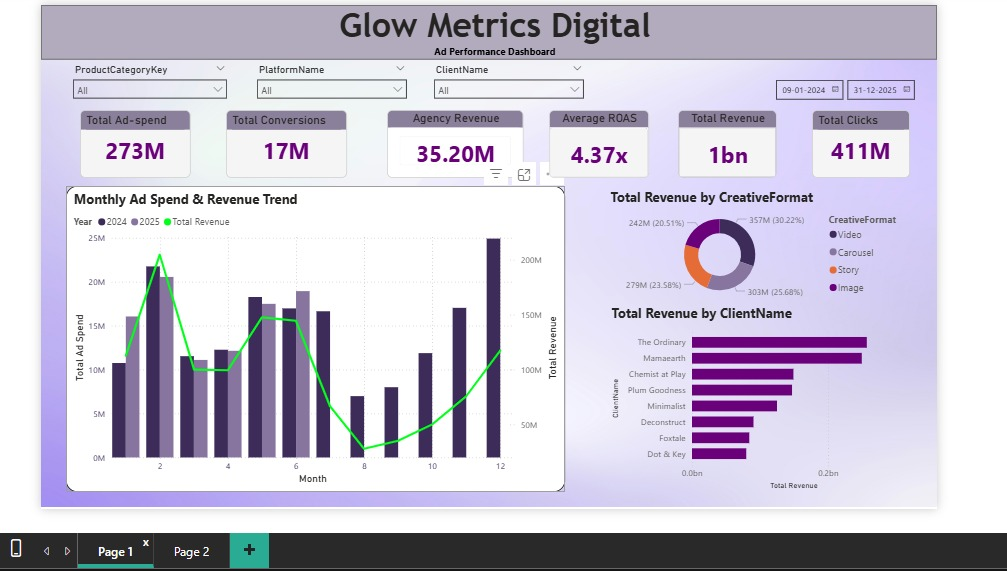

The page's visual inventory and layout, read from the dashboard file:
{"tool":"powerbi","page":{"name":"Page 1","canvas":[1280,720],"ordinal":0},"visuals":[{"type":"card","title":"Total Ad-spend","fields":{"Values":["FACT_Campaigns.Total Ad Spend"]},"box":[55.7,149.8,158.4,97],"z":0},{"type":"cardVisual","title":"Total Revenue","fields":{"Data":["FACT_Campaigns.Total Revenue"]},"box":[910.4,149.8,141.3,97],"z":1000},{"type":"card","title":"Total Clicks","fields":{"Values":["FACT_Campaigns.Total Clicks"]},"box":[1101.6,149.8,139.8,97],"z":2000},{"type":"card","title":"Total Conversions","fields":{"Values":["FACT_Campaigns.Total Conversions"]},"box":[264,149.8,172.7,97],"z":3000},{"type":"cardVisual","title":"Agency Revenue","fields":{"Data":["FACT_Campaigns.Agency Total Revenue"]},"box":[493.7,149.8,195.5,97],"z":4000},{"type":"lineClusteredColumnComboChart","title":"Monthly Ad Spend & Revenue Trend","fields":{"Category":["DIM_Date.Month"],"Series":["DIM_Date.Year"],"Y":["FACT_Campaigns.Total Ad Spend"],"Y2":["FACT_Campaigns.Total Revenue"]},"box":[35.7,258.6,712.9,437.1],"z":5000},{"type":"cardVisual","title":"Average ROAS","fields":{"Data":["FACT_Campaigns.Average ROAS"]},"box":[726.3,149.8,142.7,97],"z":6000},{"type":"textbox","title":"Glow Metrics Digital","box":[0,0,1280,78],"z":7000},{"type":"donutChart","fields":{"Category":["DIM_Creative.CreativeFormat"],"Y":["FACT_Campaigns.Total Revenue"]},"box":[808.9,261,433.8,165.5],"z":7000,"group":"g1"},{"type":"slicer","fields":{"Values":["DIM_Date.Date"]},"box":[1037.8,96.7,240,38.9],"z":8000},{"type":"slicer","fields":{"Values":["DIM_Clients.ClientName"]},"box":[552,78,234,78],"z":9000},{"type":"barChart","fields":{"Category":["DIM_Clients.ClientName"],"Y":["FACT_Campaigns.Total Revenue"]},"box":[810.7,426.9,431.7,269.2],"z":9000,"group":"g1"},{"type":"slicer","fields":{"Values":["DIM_Platform.PlatformName"]},"box":[298,78,234,72],"z":10000},{"type":"slicer","fields":{"Values":["DIM_ProductCategory.ProductCategoryKey"]},"box":[36,78,240,72],"z":11000},{"type":"group","id":"g1","title":"Group 1","box":[808.9,261,433.8,435],"z":12000}]}

Visuals, with their boxes on the page's 1280x720 design canvas (x1, y1, x2, y2). These are canvas units, not pixel positions in the 1007x571 screenshot, which may show the page scaled, cropped or inside an application window:
"Total Ad-spend" card: detection(56, 150, 214, 247)
"Total Revenue" cardVisual: detection(910, 150, 1052, 247)
"Total Clicks" card: detection(1102, 150, 1241, 247)
"Total Conversions" card: detection(264, 150, 437, 247)
"Agency Revenue" cardVisual: detection(494, 150, 689, 247)
"Monthly Ad Spend & Revenue Trend" lineClusteredColumnComboChart: detection(36, 259, 749, 696)
"Average ROAS" cardVisual: detection(726, 150, 869, 247)
"Glow Metrics Digital" textbox: detection(0, 0, 1280, 78)
donutChart - DIM_Creative.CreativeFormat x FACT_Campaigns.Total Revenue: detection(809, 261, 1243, 426)
slicer - DIM_Date.Date: detection(1038, 97, 1278, 136)
slicer - DIM_Clients.ClientName: detection(552, 78, 786, 156)
barChart - DIM_Clients.ClientName x FACT_Campaigns.Total Revenue: detection(811, 427, 1242, 696)
slicer - DIM_Platform.PlatformName: detection(298, 78, 532, 150)
slicer - DIM_ProductCategory.ProductCategoryKey: detection(36, 78, 276, 150)
"Group 1" group: detection(809, 261, 1243, 696)
